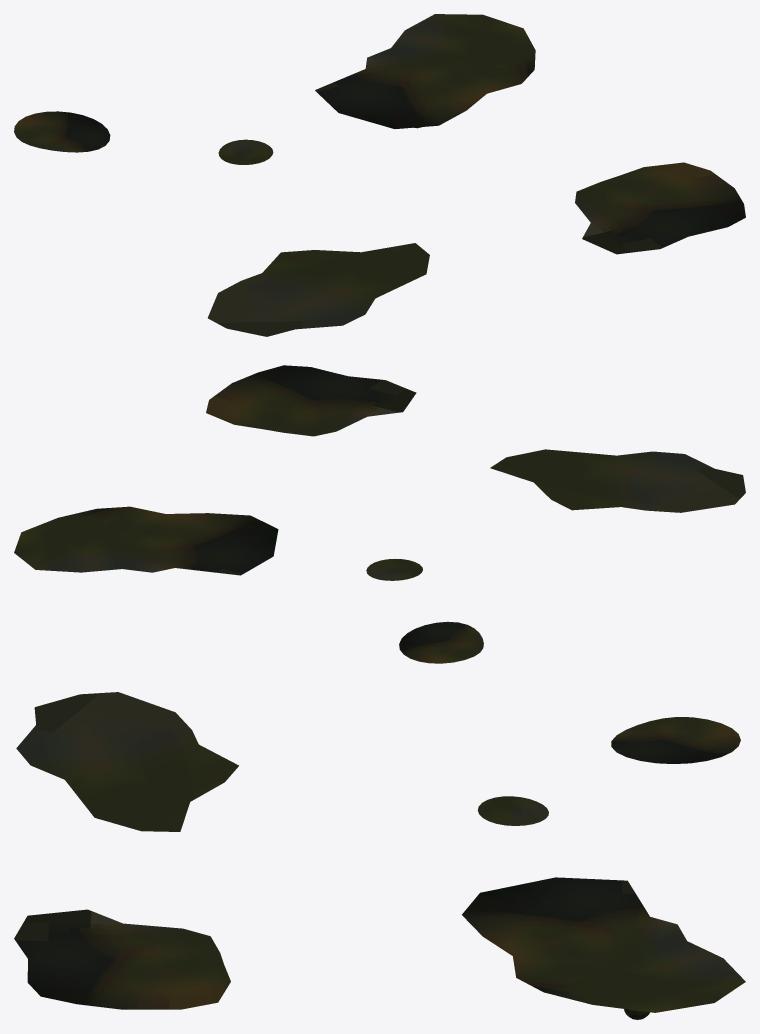
The model's file is stains.fbx.
The picture shows the model from 3 angles, top to bottom: view 1: azimuth 30°, elevation 25°; view 2: azimuth 150°, elevation 25°; view 3: azimuth 270°, elevation 25°; orthographic projection. The views are drawn at different scales.
Visible parts, largest first — view 1: Puddle2, Puddle3, Puddle1, Puddle5, Puddle4; view 2: Puddle2, Puddle3, Puddle1, Puddle5, Puddle4; view 3: Puddle2, Puddle3, Puddle1, Puddle5, Puddle4.
Boxes of the visible parts, <box> form: Puddle2: <box>315,14,535,128</box>; Puddle3: <box>208,243,429,336</box>; Puddle1: <box>575,162,745,254</box>; Puddle5: <box>14,111,110,152</box>; Puddle4: <box>218,139,273,164</box>; Puddle2: <box>14,506,278,575</box>; Puddle3: <box>490,449,745,512</box>; Puddle1: <box>206,365,416,436</box>; Puddle5: <box>399,621,483,663</box>; Puddle4: <box>366,558,422,580</box>; Puddle2: <box>462,877,745,1012</box>; Puddle3: <box>16,692,238,831</box>; Puddle1: <box>14,909,230,1009</box>; Puddle5: <box>611,717,740,763</box>; Puddle4: <box>477,796,548,825</box>.
Size of the model in its own units: 19.54 by 1.09 by 18.83.
Materials: 1 (1 with a texture image).
